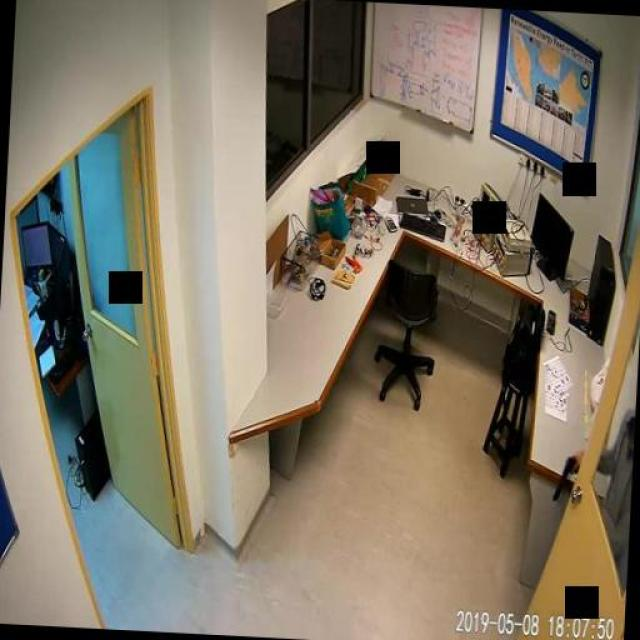gun: (550, 451, 580, 504)
